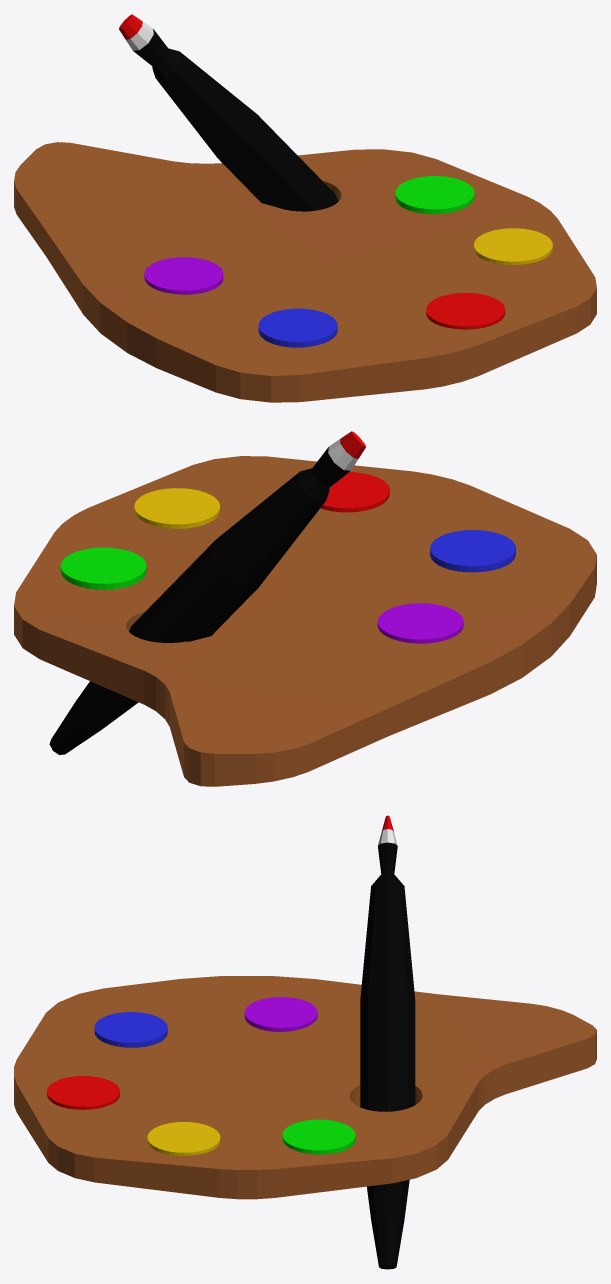
The model's file is paint.fbx.
The picture shows the model from 3 angles, top to bottom: view 1: azimuth 30°, elevation 25°; view 2: azimuth 150°, elevation 25°; view 3: azimuth 270°, elevation 25°; orthographic projection. The views are drawn at different scales.
Visible parts, largest first — view 1: Cube, Cylinder.005, Cylinder.001, Cylinder.004, Cylinder.002, Cylinder.003, Cylinder; view 2: Cube, Cylinder.005, Cylinder.001, Cylinder.004, Cylinder.003, Cylinder.002, Cylinder; view 3: Cube, Cylinder.005, Cylinder.001, Cylinder.004, Cylinder.002, Cylinder.003, Cylinder.
Part boxes in pixels (left/top/right/bottom): Cube: left=14, top=142, right=596, bottom=402; Cylinder.005: left=119, top=14, right=338, bottom=211; Cylinder.001: left=258, top=308, right=337, bottom=347; Cylinder.004: left=395, top=176, right=474, bottom=214; Cylinder.002: left=144, top=257, right=223, bottom=294; Cylinder.003: left=474, top=228, right=552, bottom=264; Cylinder: left=426, top=293, right=505, bottom=329; Cube: left=14, top=456, right=596, bottom=786; Cylinder.005: left=49, top=431, right=365, bottom=754; Cylinder.001: left=430, top=530, right=515, bottom=572; Cylinder.004: left=60, top=547, right=146, bottom=589; Cylinder.003: left=134, top=488, right=219, bottom=528; Cylinder.002: left=377, top=603, right=463, bottom=643; Cylinder: left=320, top=472, right=389, bottom=512; Cube: left=14, top=976, right=596, bottom=1199; Cylinder.005: left=360, top=815, right=415, bottom=1269; Cylinder.001: left=94, top=1012, right=167, bottom=1047; Cylinder.004: left=282, top=1119, right=355, bottom=1154; Cylinder.002: left=244, top=997, right=317, bottom=1031; Cylinder.003: left=147, top=1122, right=220, bottom=1155; Cylinder: left=47, top=1076, right=119, bottom=1109.
Bounding box in the file's own units: 243 × 195 × 308.
